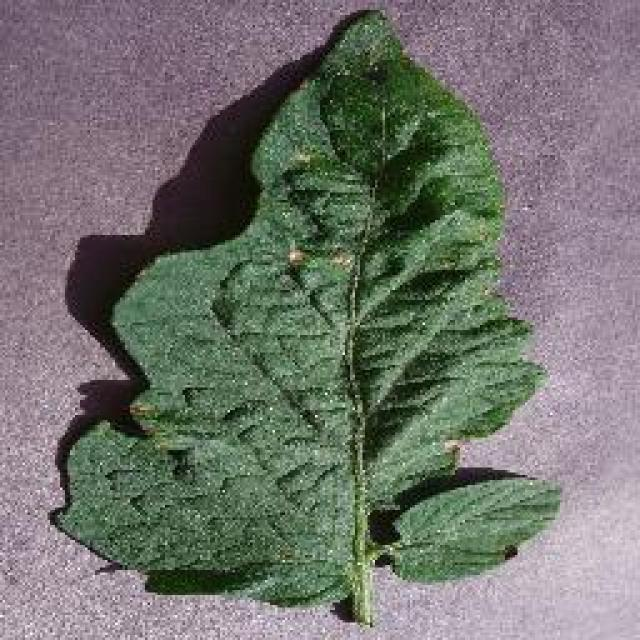Tomato Septoria spot leaf: (56, 8, 544, 612), (386, 472, 564, 588)
